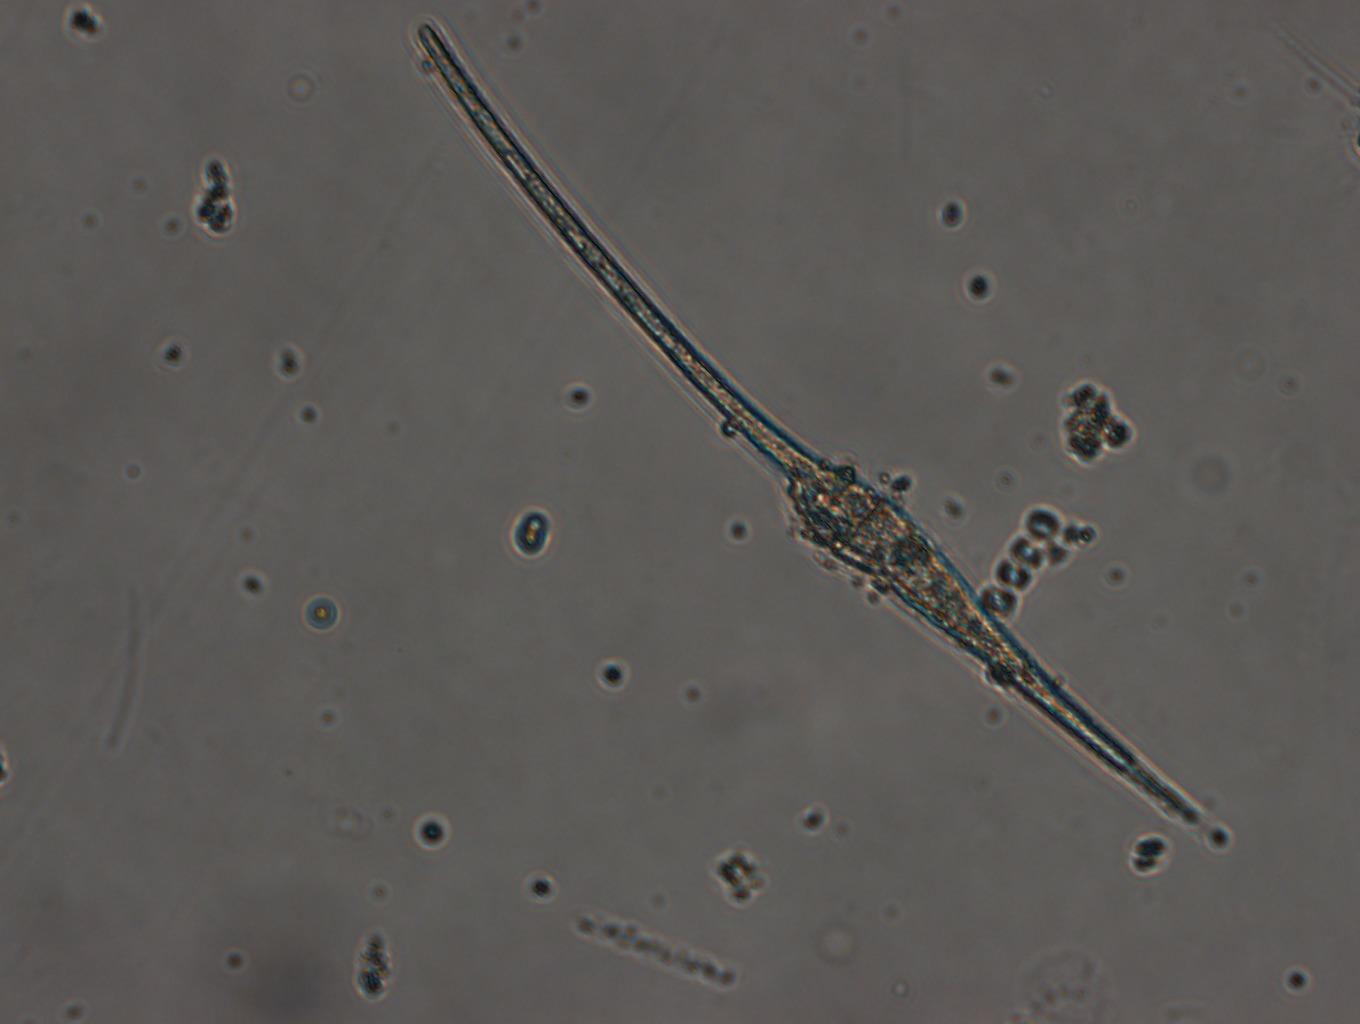ceratium fusus: (414, 15, 1237, 857)
